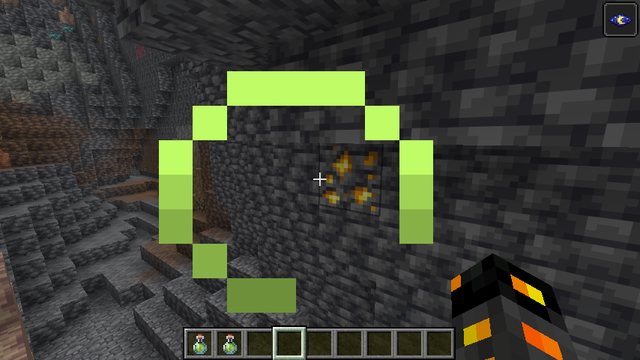diamond: (47, 22, 76, 45)
gold: (317, 143, 383, 218)
redstone: (129, 40, 149, 59)
